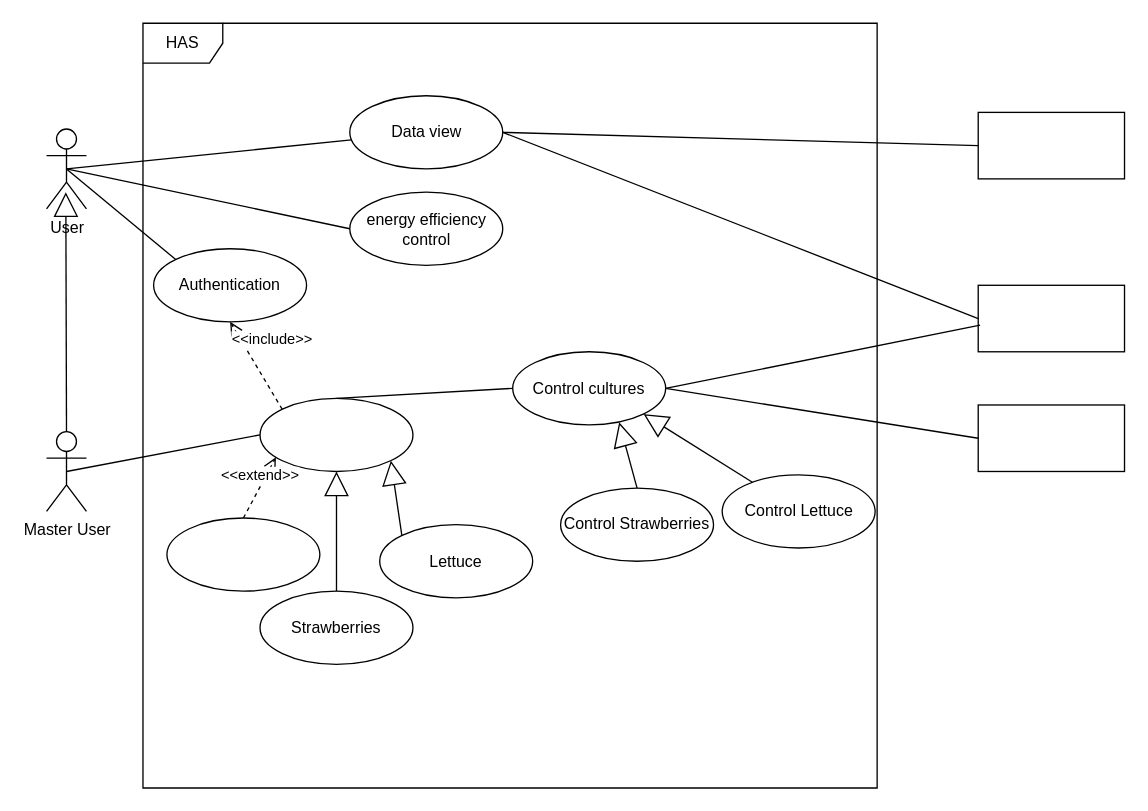
This 1148x811 diagram has some shape labels left out. Here are the shapes that lost their labels. From the top down, the centre of each, then its label:
At [1051,145]: "DB".
At [1051,318]: "Sensors".
At [336,434]: "Define rules".
At [1051,437]: "actuators".
At [243,554]: "insert new culture".
